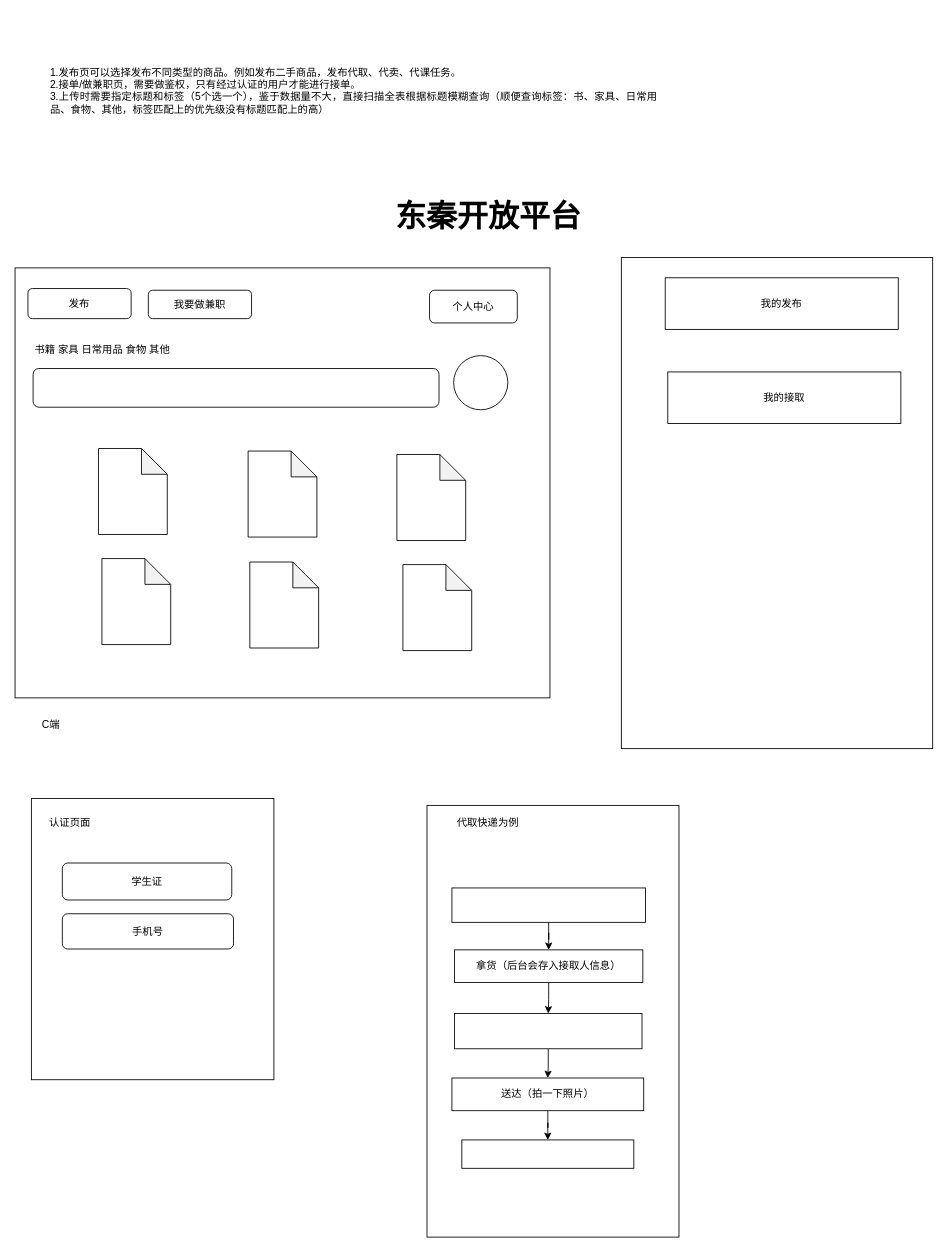
This 948x1252 diagram has some shape labels left out. Here are the shapes that lost their labels. From the top down, the centre of each, then its label:
the point at 235,387: 请输入搜索内容
the point at 480,382: 搜索
the point at 548,904: 接取任务
the point at 548,1031: 送货（可能需要一些超时检查）
the point at 547,1153: 完成
